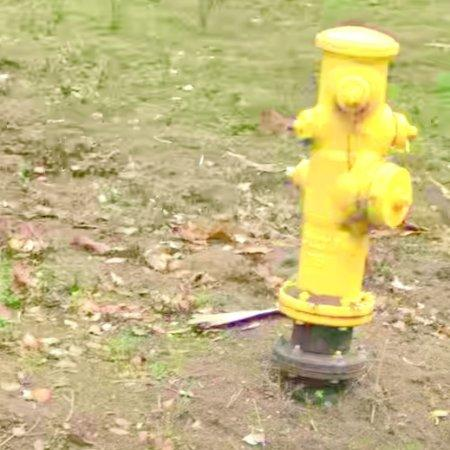a fire hydrant: (273, 25, 418, 382)
